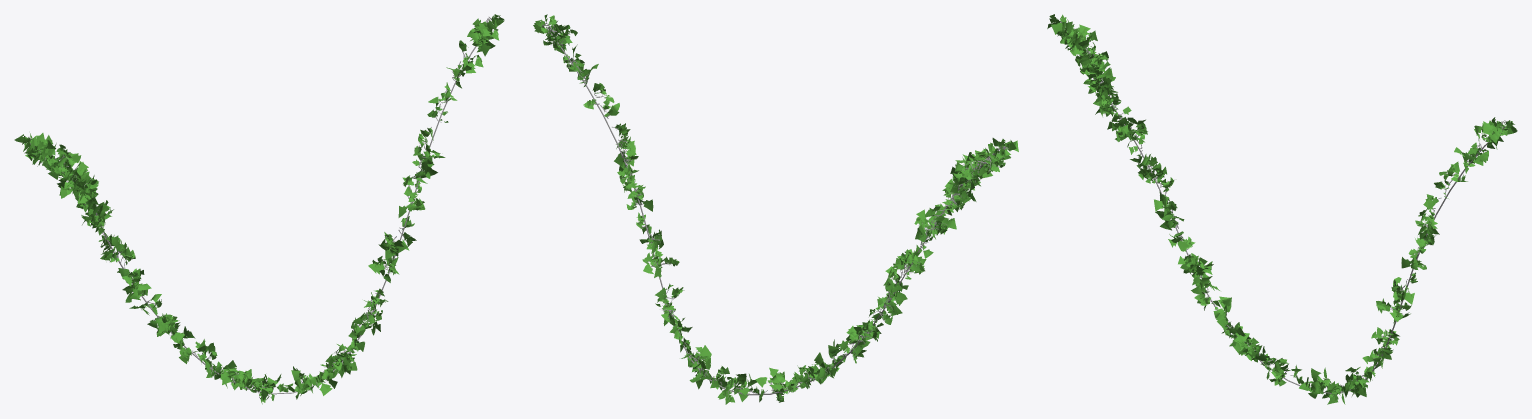
The model's file is ivyCurvedB.fbx.
The picture shows the model from 3 angles, left to right: view 1: azimuth 30°, elevation 25°; view 2: azimuth 150°, elevation 25°; view 3: azimuth 330°, elevation 25°; orthographic projection. The views are drawn at different scales.
Visible parts, largest first — view 1: ivyCurvedB_leaf, ivyCurvedB_stem, ivyCurvedB_vine; view 2: ivyCurvedB_leaf, ivyCurvedB_stem, ivyCurvedB_vine; view 3: ivyCurvedB_leaf, ivyCurvedB_vine, ivyCurvedB_stem.
Boxes of the visible parts, x1,y1,x2,y2 form: ivyCurvedB_leaf: (14,14,504,404); ivyCurvedB_stem: (26,17,493,397); ivyCurvedB_vine: (30,46,476,394); ivyCurvedB_leaf: (533,14,1018,404); ivyCurvedB_stem: (539,22,1008,399); ivyCurvedB_vine: (546,26,1005,395); ivyCurvedB_leaf: (1047,14,1517,404); ivyCurvedB_vine: (1064,29,1505,393); ivyCurvedB_stem: (1060,21,1506,395).
Size of the model in its own units: 493 by 327 by 50.19.
